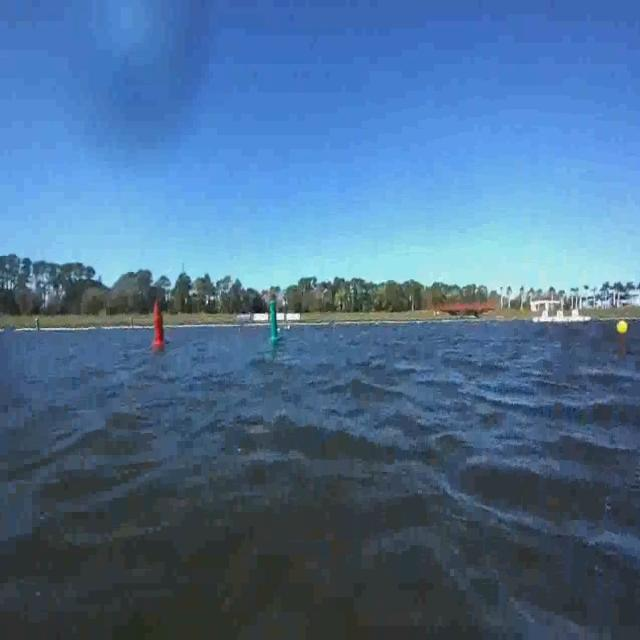green-column-buoy: (265, 295, 281, 348)
red-column-buoy: (146, 293, 172, 357)
